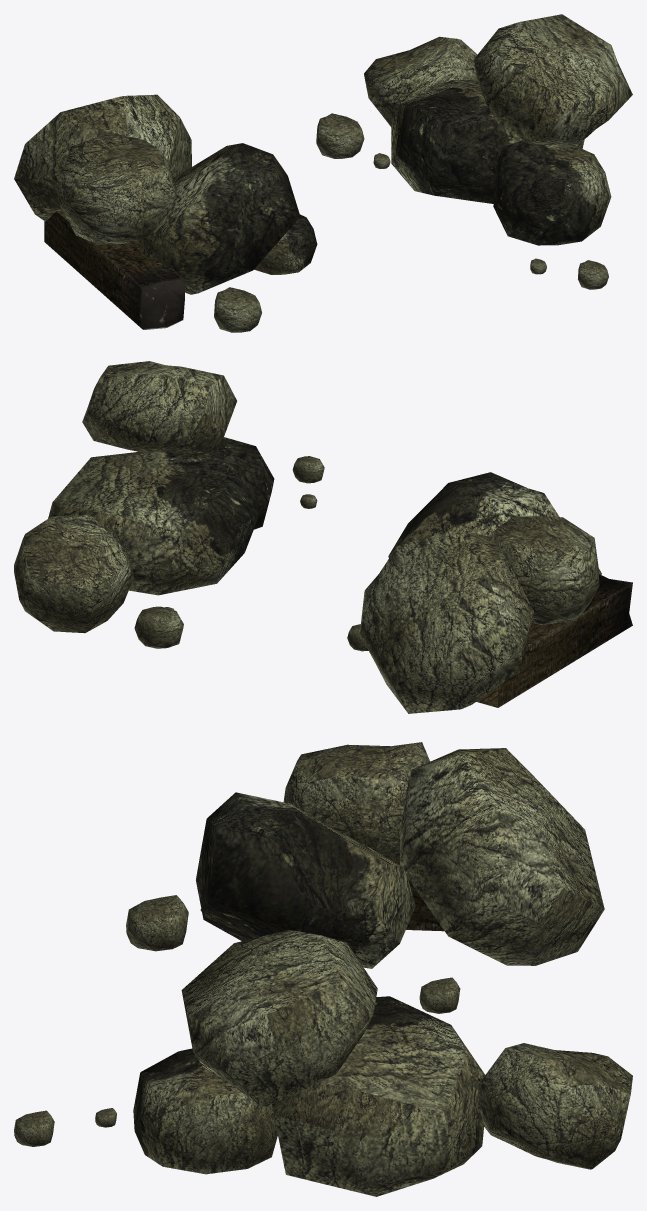
The model's file is cave_in_destroyed.dae.
3 views of the same model, one above another, from view 1: azimuth 30°, elevation 25°; view 2: azimuth 150°, elevation 25°; view 3: azimuth 270°, elevation 25° (orthographic). The views are drawn at different scales.
Parts seen in each view (by area): view 1: polySurface1; view 2: polySurface1; view 3: polySurface1.
Boxes of the visible parts, left/top/right/bottom form: polySurface1: left=14, top=14, right=632, bottom=332; polySurface1: left=14, top=361, right=632, bottom=713; polySurface1: left=14, top=742, right=632, bottom=1196.
Size of the model in its own units: 6.46 by 2.17 by 5.09.
